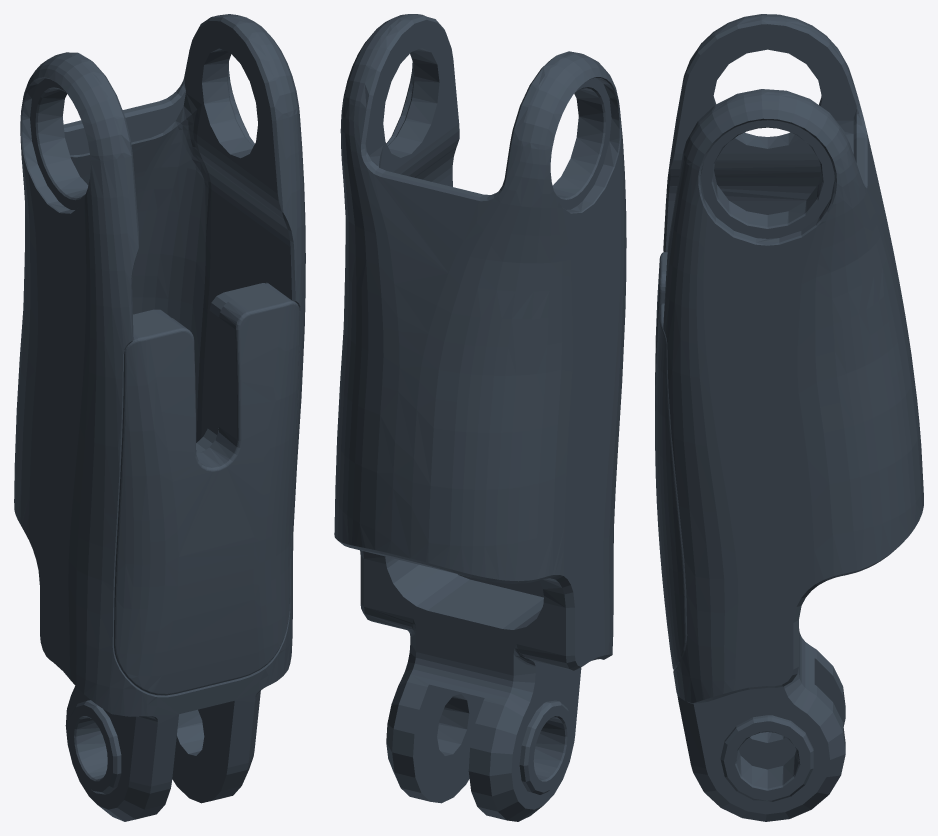
The model's file is rf_mcp_pitch_link.glb.
3 views of the same model, side by side, from view 1: azimuth 30°, elevation 25°; view 2: azimuth 150°, elevation 25°; view 3: azimuth 270°, elevation 25° (orthographic). The views are drawn at different scales.
Parts seen in each view (by area): view 1: rf_mcp_pitch; view 2: rf_mcp_pitch; view 3: rf_mcp_pitch.
Part boxes in pixels (bbox=[...]): rf_mcp_pitch: bbox=[14, 14, 305, 821]; rf_mcp_pitch: bbox=[334, 14, 626, 821]; rf_mcp_pitch: bbox=[655, 14, 923, 821].
Size of the model in its own units: 0.0154 by 0.0525 by 0.0172.
